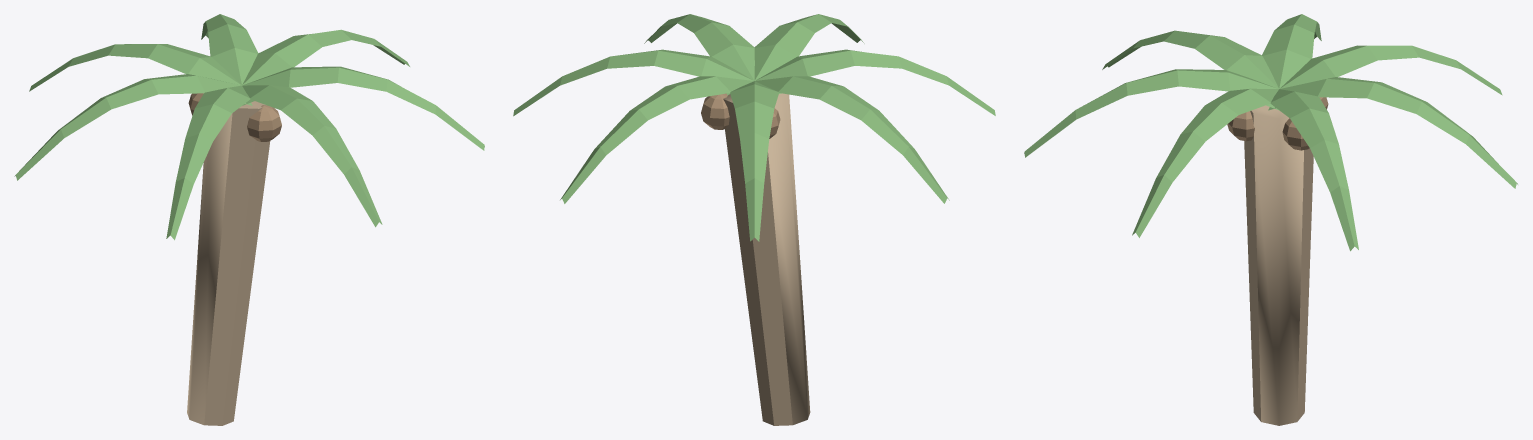
Rendered from palm.glb.
3 renders of one model, left to right at view 1: azimuth 30°, elevation 25°; view 2: azimuth 150°, elevation 25°; view 3: azimuth 270°, elevation 25°, orthographic. The views are drawn at different scales.
Parts seen in each view (by area): view 1: Fronds, Trunk, Coconuts; view 2: Fronds, Trunk, Coconuts; view 3: Fronds, Trunk, Coconuts.
Part boxes in pixels (box(x1,y1,x2,y2)): Fronds: box(14, 14, 484, 240); Trunk: box(187, 101, 270, 425); Coconuts: box(188, 93, 281, 141); Fronds: box(513, 14, 995, 241); Trunk: box(723, 93, 810, 425); Coconuts: box(701, 93, 780, 138); Fronds: box(1024, 14, 1517, 251); Trunk: box(1244, 105, 1313, 425); Coconuts: box(1227, 97, 1328, 150).
Bounding box in the file's own units: 13.67 × 11.02 × 13.55.
